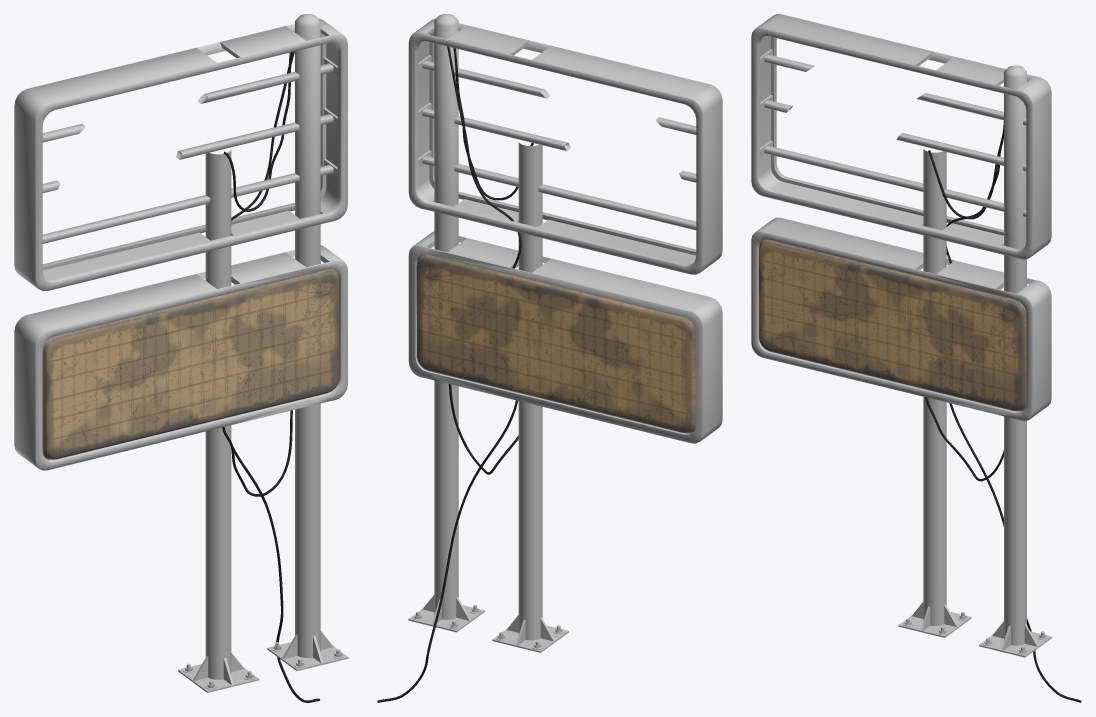
Rendered from SM_billboard.gltf.
3 views of the same model, side by side, from view 1: azimuth 30°, elevation 25°; view 2: azimuth 150°, elevation 25°; view 3: azimuth 330°, elevation 25° (orthographic). The views are drawn at different scales.
Parts seen in each view (by area): view 1: SM_billboard; view 2: SM_billboard; view 3: SM_billboard.
Part boxes in pixels (x1,y1,x2,y2): SM_billboard: (14,14,348,702); SM_billboard: (377,14,722,702); SM_billboard: (751,14,1081,702).
Bounding box in the file's own units: 4.37 × 9.23 × 1.08.
